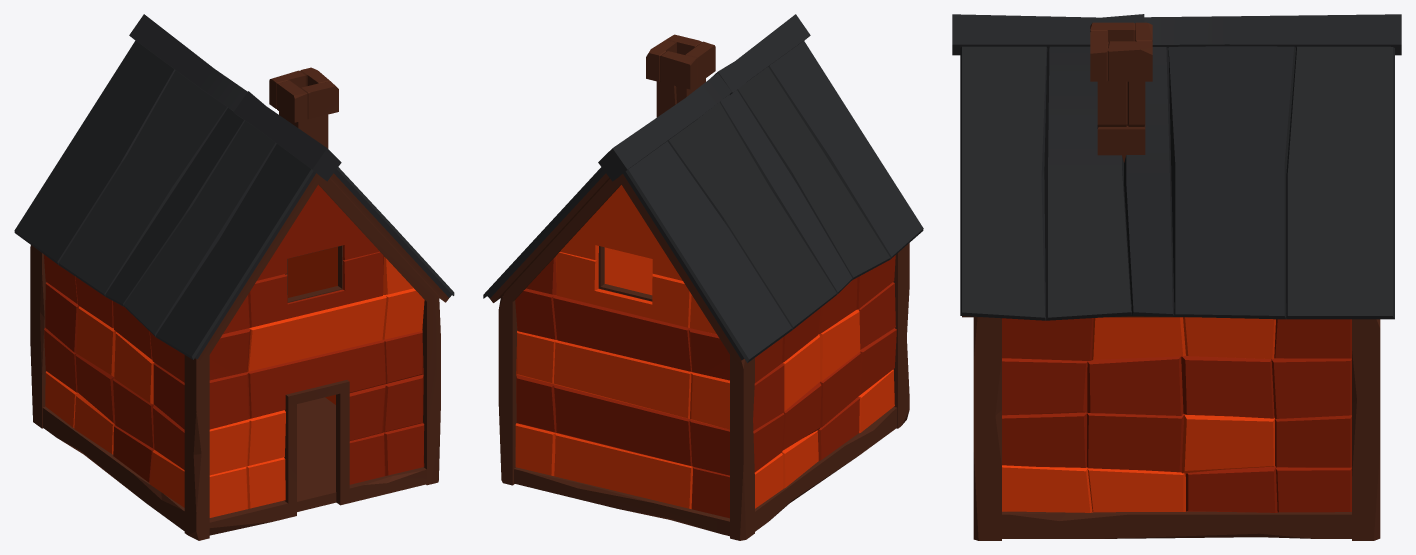
Rendered from Warehouse.001.fbx.
3 views of the same model, side by side, from view 1: azimuth 30°, elevation 25°; view 2: azimuth 150°, elevation 25°; view 3: azimuth 270°, elevation 25° (orthographic). The views are drawn at different scales.
Visible parts, largest first — view 1: Warehouse.001; view 2: Warehouse.001; view 3: Warehouse.001.
Part boxes in pixels (bbox=[...]): Warehouse.001: bbox=[14, 14, 454, 540]; Warehouse.001: bbox=[483, 14, 923, 540]; Warehouse.001: bbox=[952, 14, 1401, 540].
Size of the model in its own units: 131 by 175 by 155.
